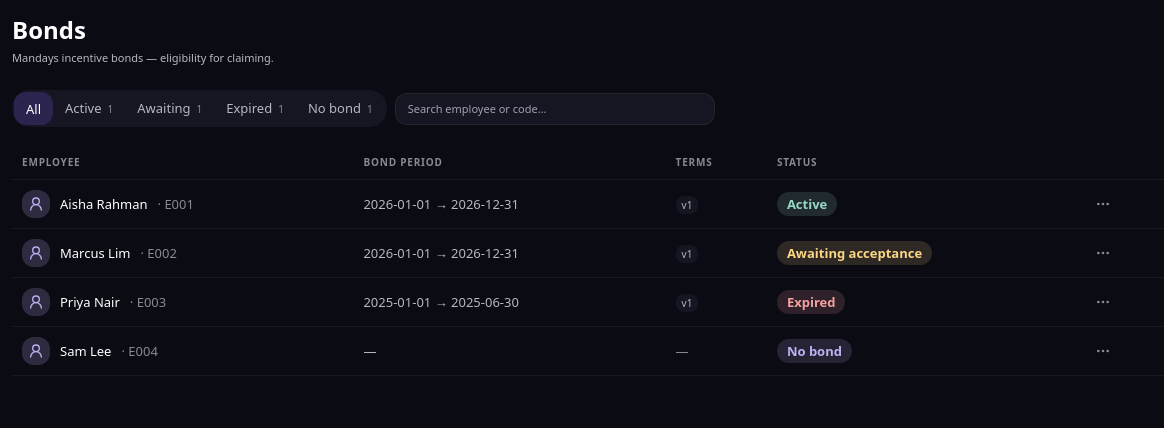
BondsPage › kebab menu offers Create bond for unbonded, Edit/Revoke for bonded
Expected: the text "Sam Lee" is shown, [60,341,112,361]
Click the button named "Actions for Sam Lee". click: point(1103, 351)
box: [1089,337,1117,365]
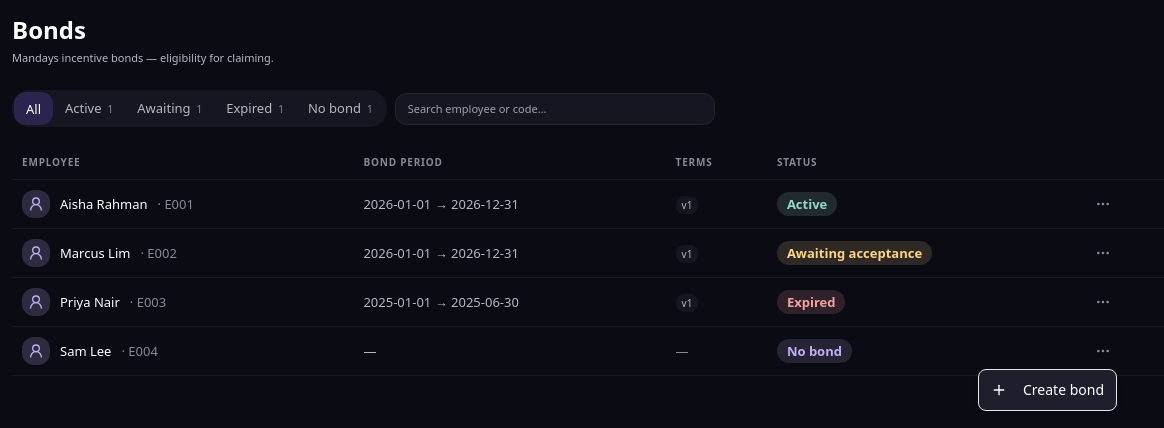
Expected: the menu item "Revoke" is not shown
Expected: the menu item "Create bond" is shown, [991,380,1104,399]
Press Escape
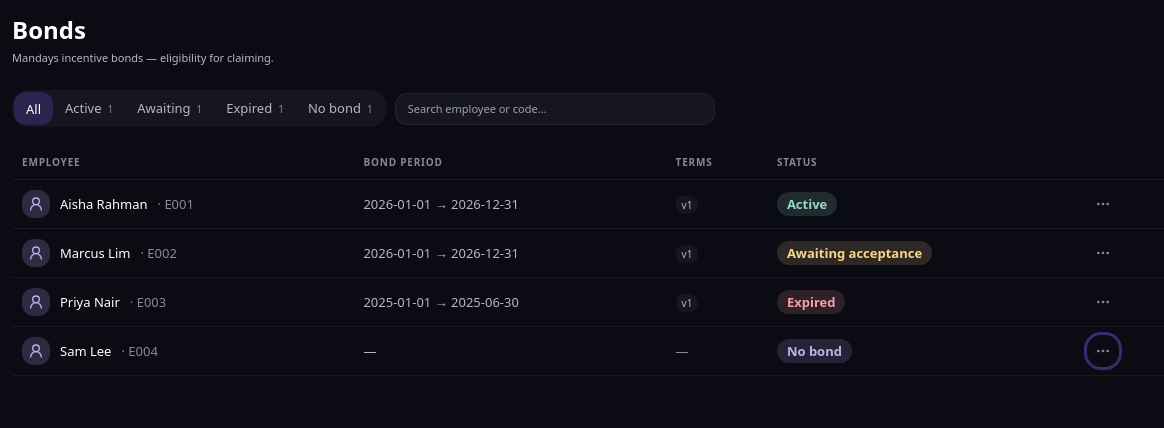
Click the button named "Actions for Aisha Rahman". click: point(1103, 204)
box: [1089,190,1117,218]
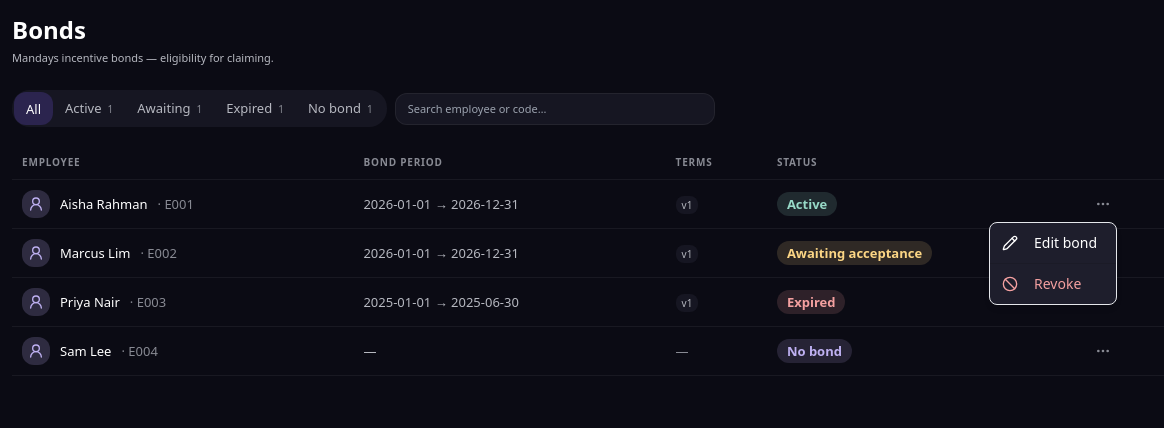
Expected: the menu item "Create bond" is not shown
Expected: the menu item "Edit bond" is shown, [1002,233,1097,252]
Expected: the menu item "Revoke" is shown, [1002,274,1081,293]
